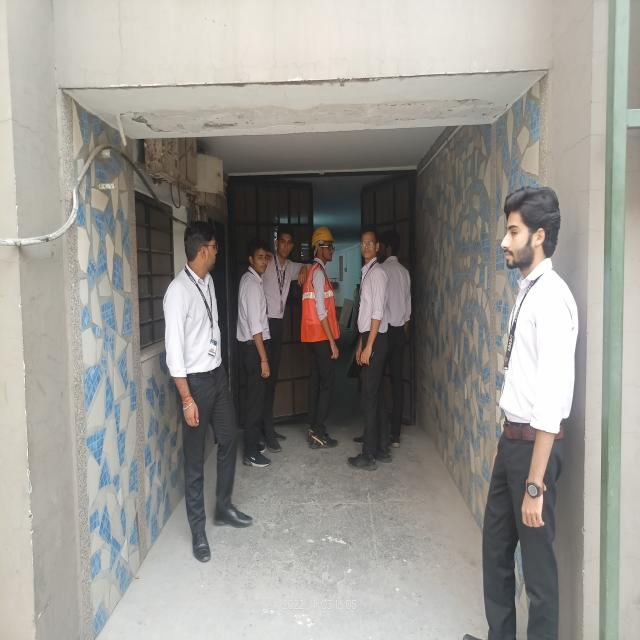safe: (300, 225, 344, 451)
unsafe: (477, 186, 580, 640), (160, 218, 254, 562), (235, 238, 278, 465), (265, 224, 305, 458), (354, 223, 390, 470), (380, 229, 410, 460)
